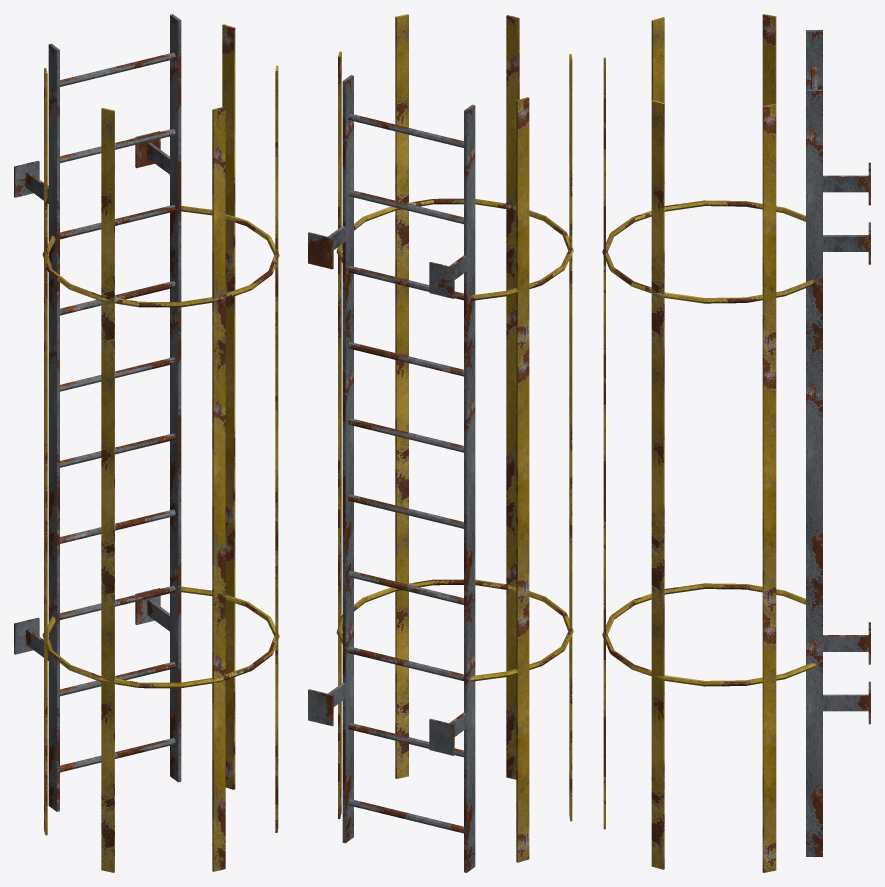
The model's file is kafesli_merdiven_3m.gltf.
The picture shows the model from 3 angles, left to right: view 1: azimuth 30°, elevation 25°; view 2: azimuth 150°, elevation 25°; view 3: azimuth 270°, elevation 25°; orthographic projection.
Visible parts, largest first — view 1: kafesli_merdiven_3m; view 2: kafesli_merdiven_3m; view 3: kafesli_merdiven_3m.
Boxes of the visible parts, <box> form: kafesli_merdiven_3m: <box>14,14,279,872</box>; kafesli_merdiven_3m: <box>308,14,573,872</box>; kafesli_merdiven_3m: <box>602,14,870,872</box>.
Size of what is drawn, in the model's own units: 0.839 by 3 by 0.954.
2 materials, 2 textured.
